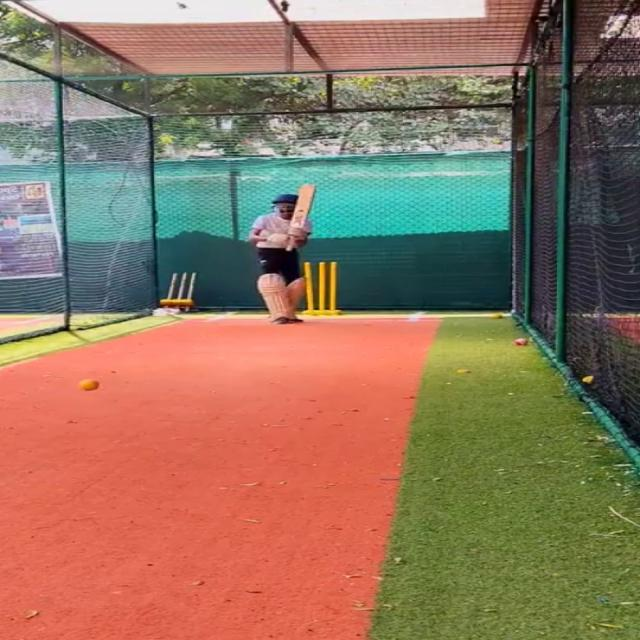ball: (78, 378, 105, 393), (517, 336, 531, 346), (493, 312, 506, 319)
stump: (304, 260, 342, 315)
